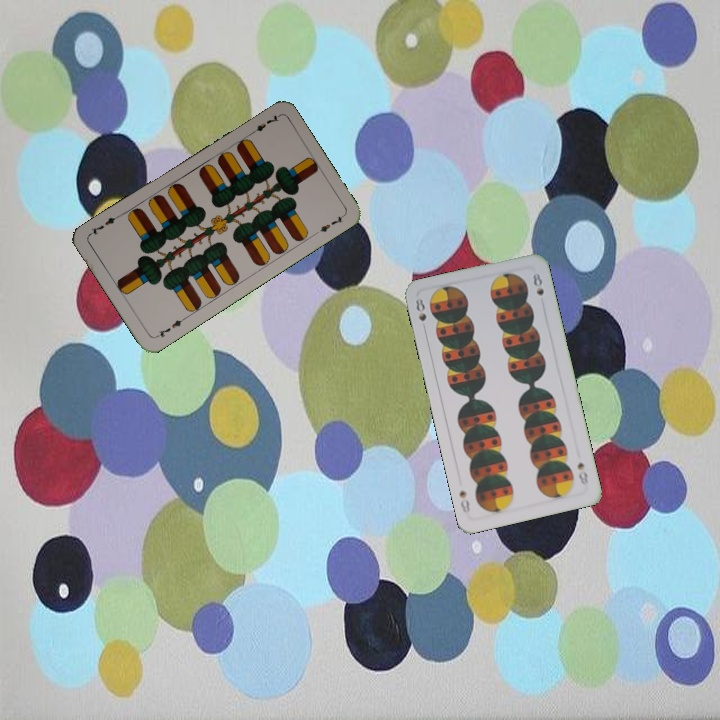E7: (151, 314, 188, 341), (245, 111, 281, 138)
S8: (411, 294, 429, 334), (573, 458, 591, 488)
